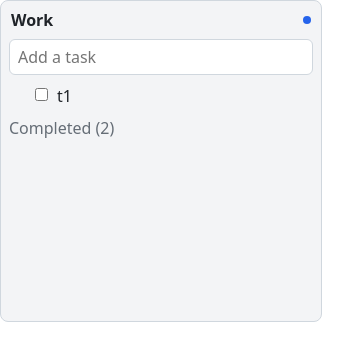
Test: ListColumn › shows 'Completed (2)' collapsed, and expands to done tasks
Check: the text "d1" is not shown
Step 1. Click the button "Completed (2)" → (62, 128), box [9,111,114,145]
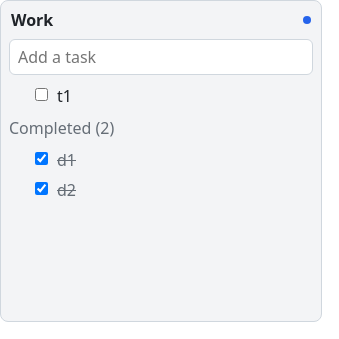
Check: the checkbox named "d1" is checked, box [35,152,48,165]
